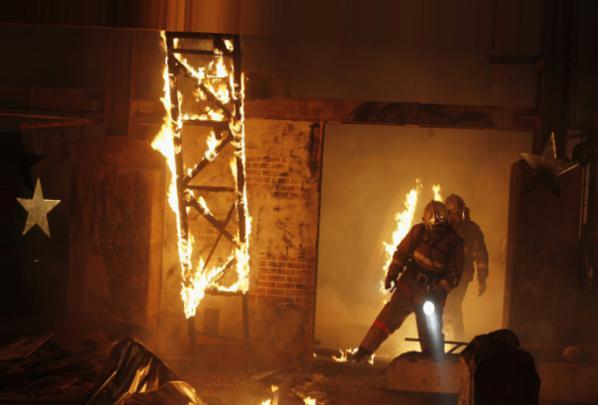fire: (154, 21, 250, 311), (378, 183, 416, 260), (332, 336, 380, 369), (255, 384, 325, 405)
